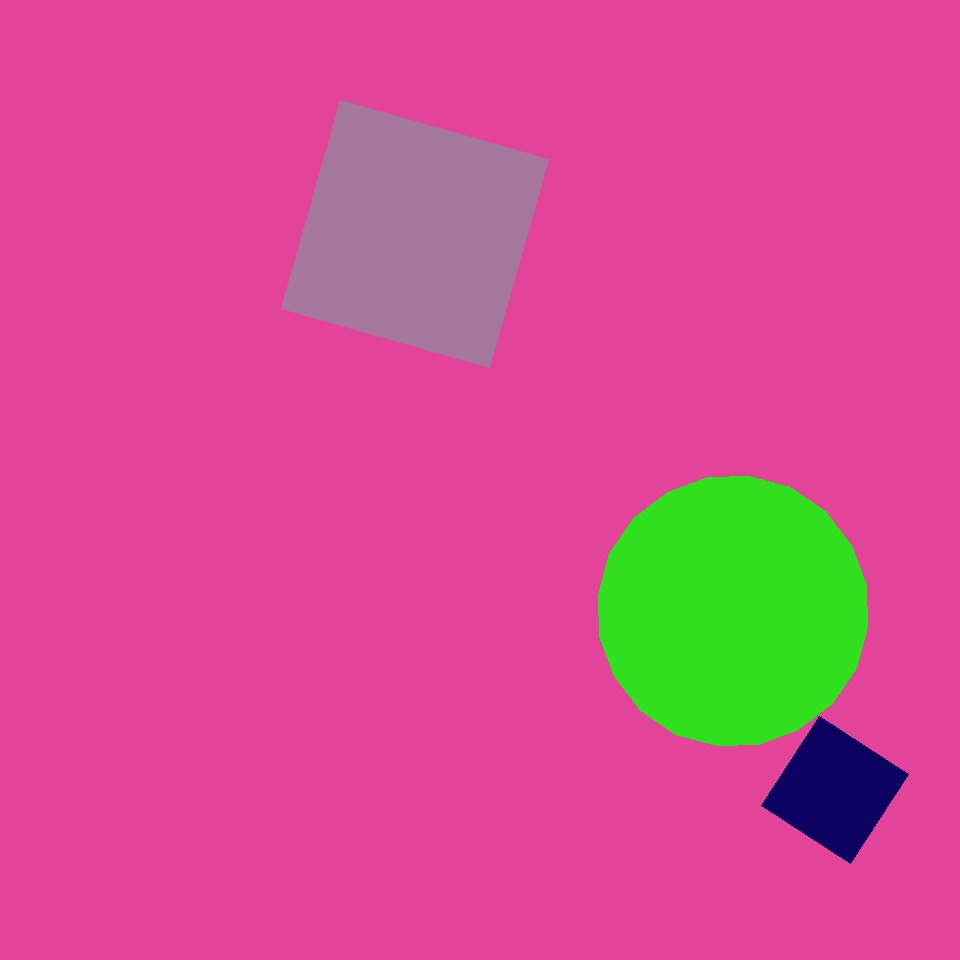circle: (407, 225, 534, 336)
square: (282, 100, 548, 368), (762, 716, 908, 864)
triangle: (598, 476, 868, 746), (398, 295, 631, 527), (197, 30, 325, 158)
